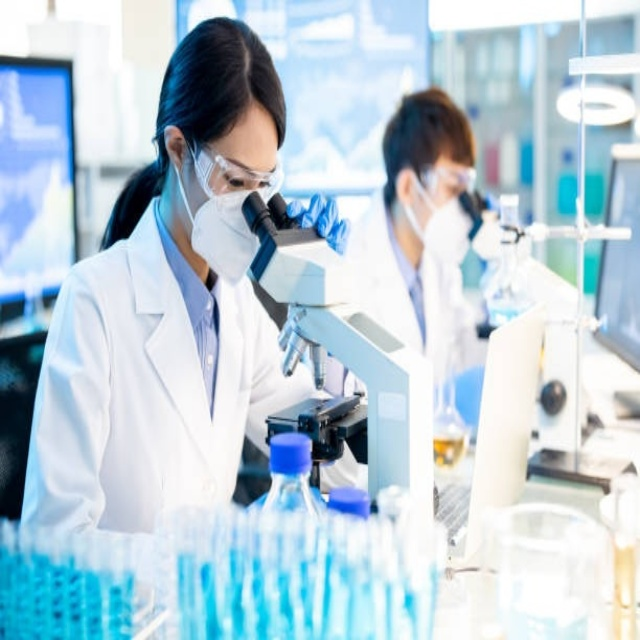Gafas: (186, 131, 284, 205), (421, 164, 478, 195)
Guantes: (284, 193, 351, 256)
Mascara: (190, 182, 267, 293), (410, 191, 473, 260)
